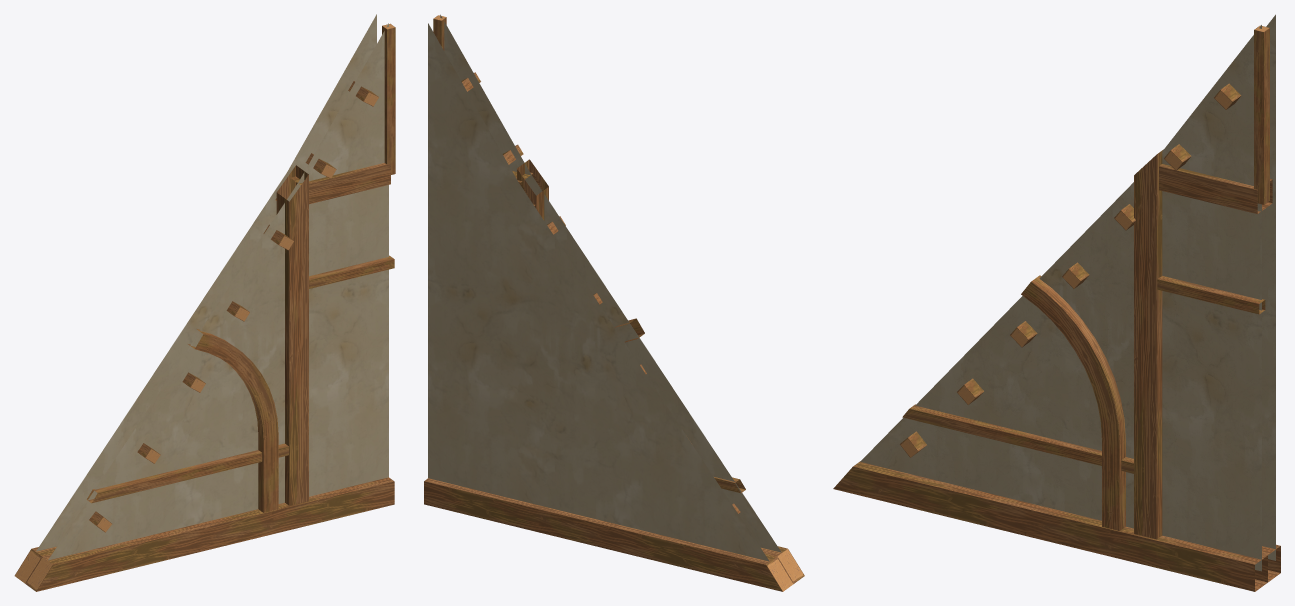
The model's file is Roof_Front_Brick8_Half_L.gltf.
3 views of the same model, side by side, from view 1: azimuth 30°, elevation 25°; view 2: azimuth 150°, elevation 25°; view 3: azimuth 330°, elevation 25° (orthographic). The views are drawn at different scales.
Visible parts, largest first — view 1: Roof_Front_Brick8_Half_L; view 2: Roof_Front_Brick8_Half_L; view 3: Roof_Front_Brick8_Half_L.
Part boxes in pixels (x1=…): Roof_Front_Brick8_Half_L: x1=14, y1=14, x2=395, y2=591; Roof_Front_Brick8_Half_L: x1=424, y1=14, x2=804, y2=591; Roof_Front_Brick8_Half_L: x1=833, y1=14, x2=1280, y2=591.
Size of the model in its own units: 4.33 by 5.45 by 0.4896.
Materials: 2 (2 with a texture image).
